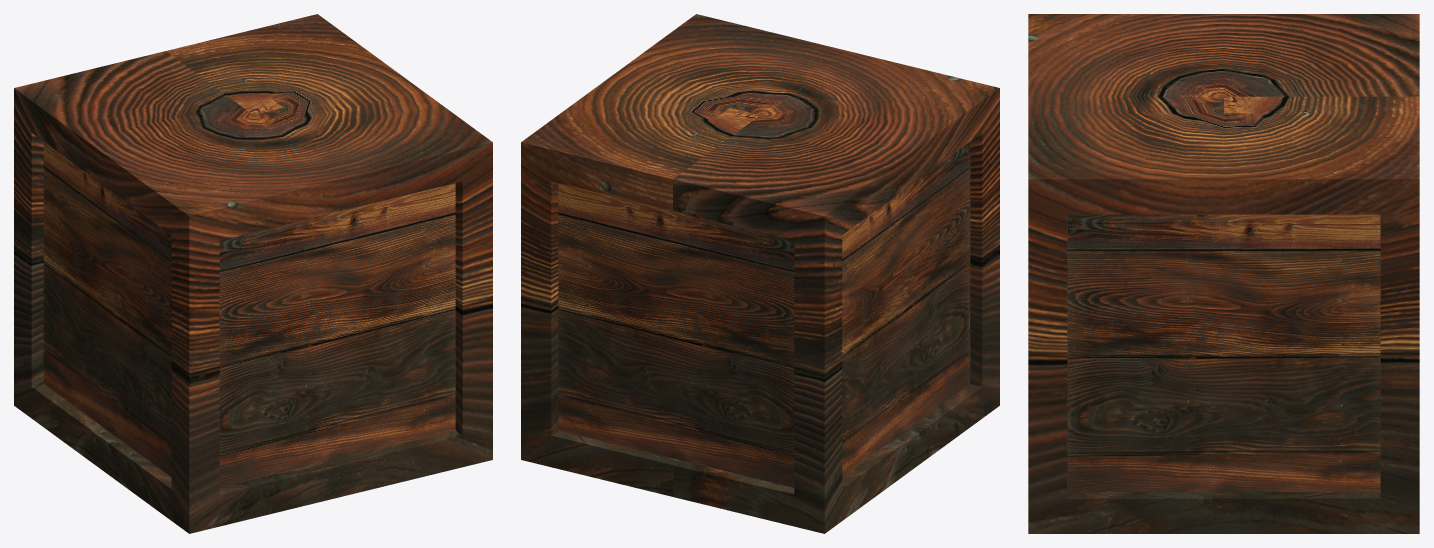
File: Furniture_Woodbox.fbx
The picture shows the model from 3 angles, left to right: view 1: azimuth 30°, elevation 25°; view 2: azimuth 150°, elevation 25°; view 3: azimuth 270°, elevation 25°; orthographic projection. The views are drawn at different scales.
Parts seen in each view (by area): view 1: pCube1; view 2: pCube1; view 3: pCube1.
Part boxes in pixels (x1,y1,x2,y2): pCube1: (14,14,492,533); pCube1: (521,14,999,533); pCube1: (1028,14,1419,533).
Bounding box in the file's own units: 50 × 50 × 50.
1 material, 1 textured.
